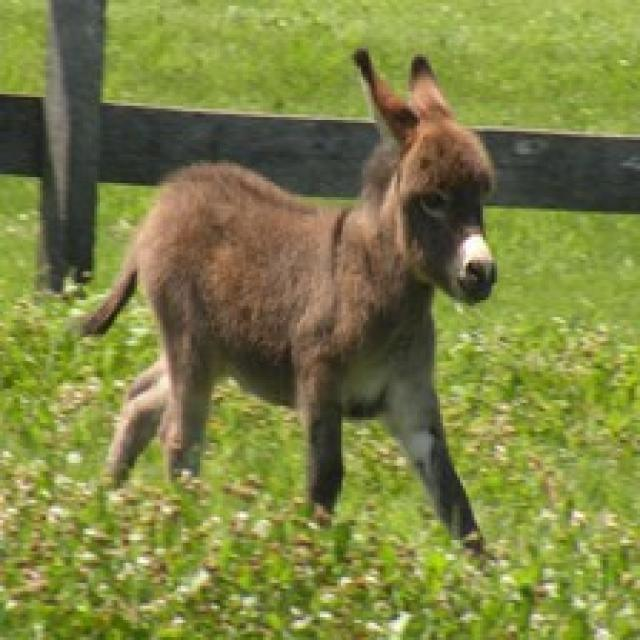Donkey: (62, 46, 498, 560)
